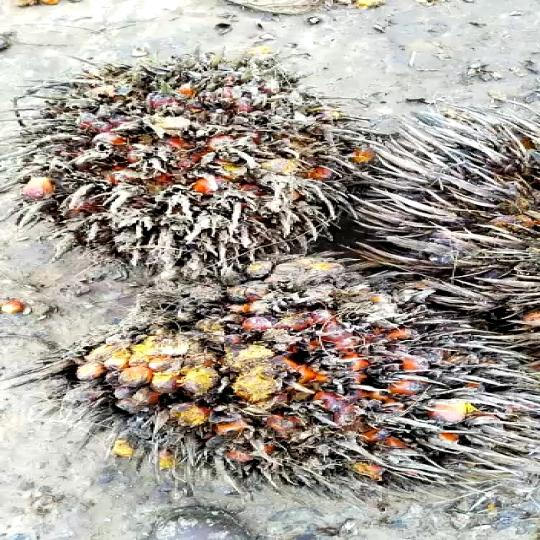terlalu masak: (56, 268, 520, 472), (22, 56, 330, 272)
